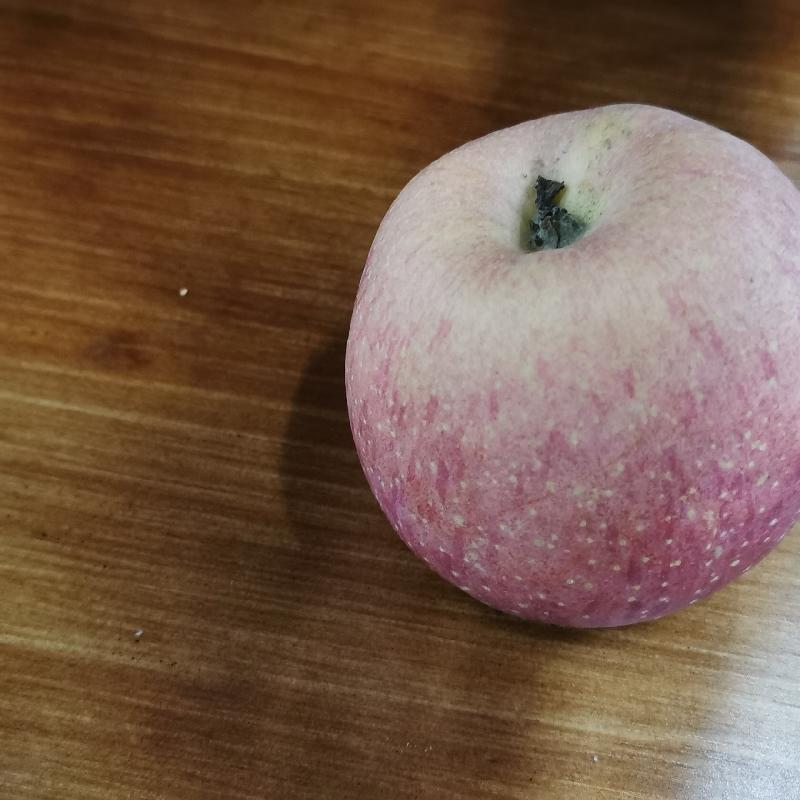apples: (339, 106, 800, 640)
